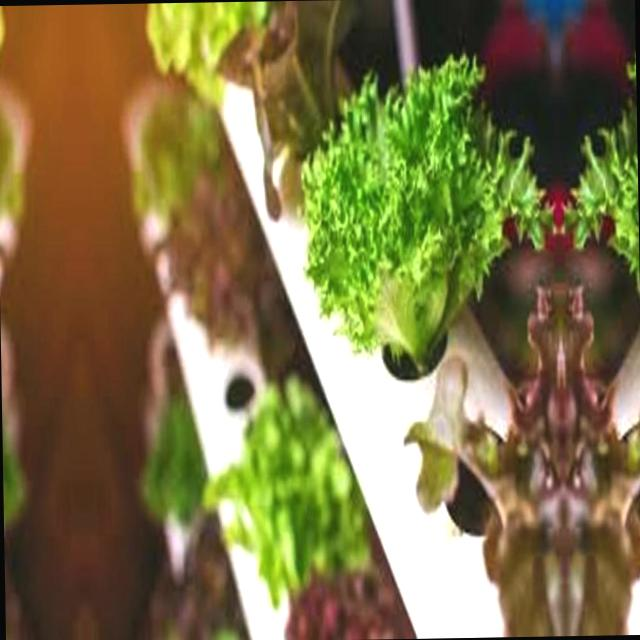healthy: (293, 51, 553, 373), (207, 389, 367, 600), (563, 49, 640, 368), (128, 72, 228, 219), (140, 2, 265, 106), (133, 382, 216, 533), (1, 386, 32, 536), (0, 75, 26, 220), (0, 5, 10, 108)
